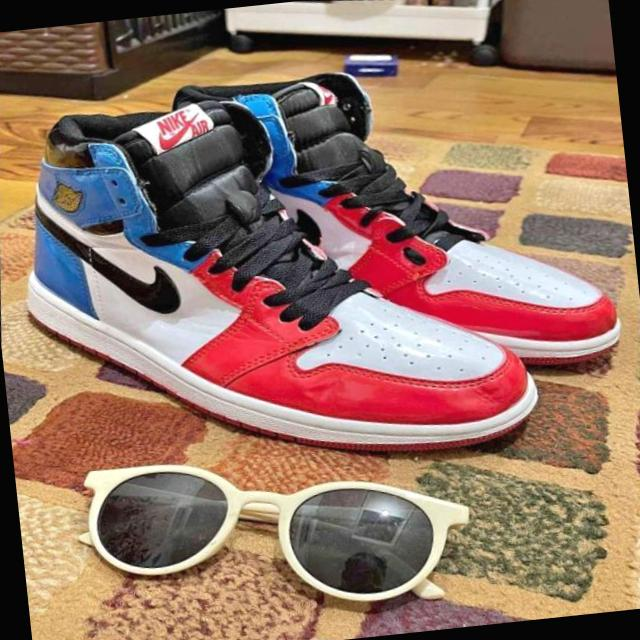nike_fake_jordan: (0, 42, 574, 504), (149, 31, 640, 413)
